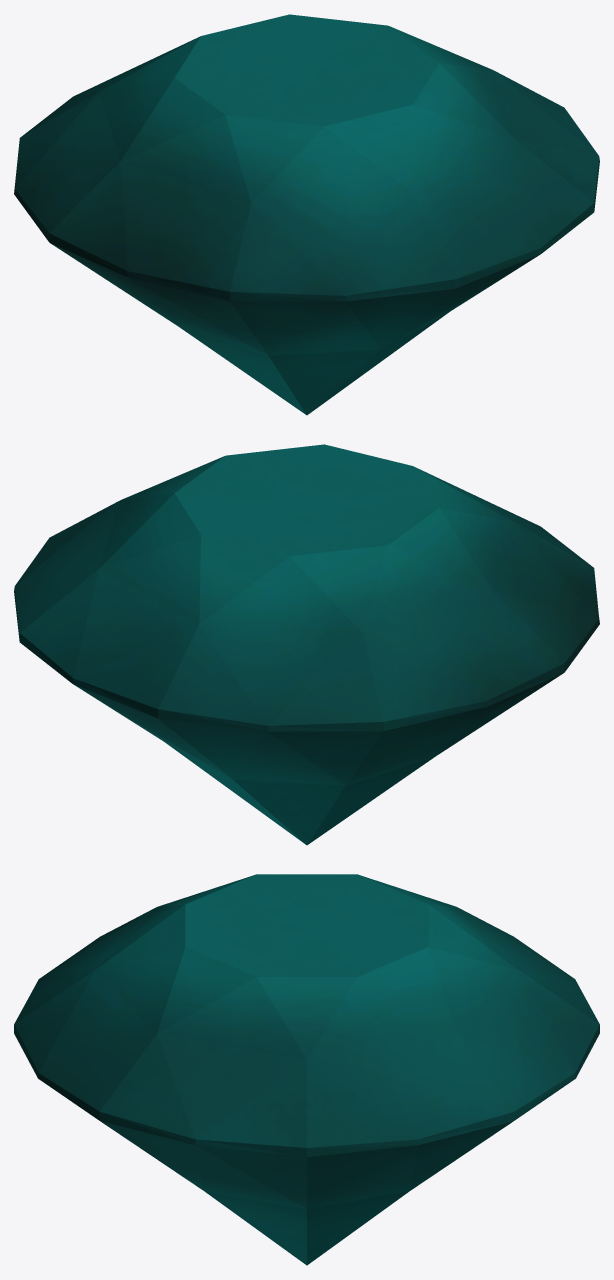
Rendered from Aqua Chaos Emerald.obj.
3 renders of one model, top to bottom at view 1: azimuth 30°, elevation 25°; view 2: azimuth 150°, elevation 25°; view 3: azimuth 270°, elevation 25°, orthographic.
Visible parts, largest first — view 1: Object01; view 2: Object01; view 3: Object01.
Boxes of the visible parts, x1,y1,x2,y2 form: Object01: (14,14,599,415); Object01: (14,444,599,845); Object01: (14,874,599,1265).
Bounding box in the file's own units: 151 × 96.96 × 151.
Materials: 1 (1 with a texture image).
